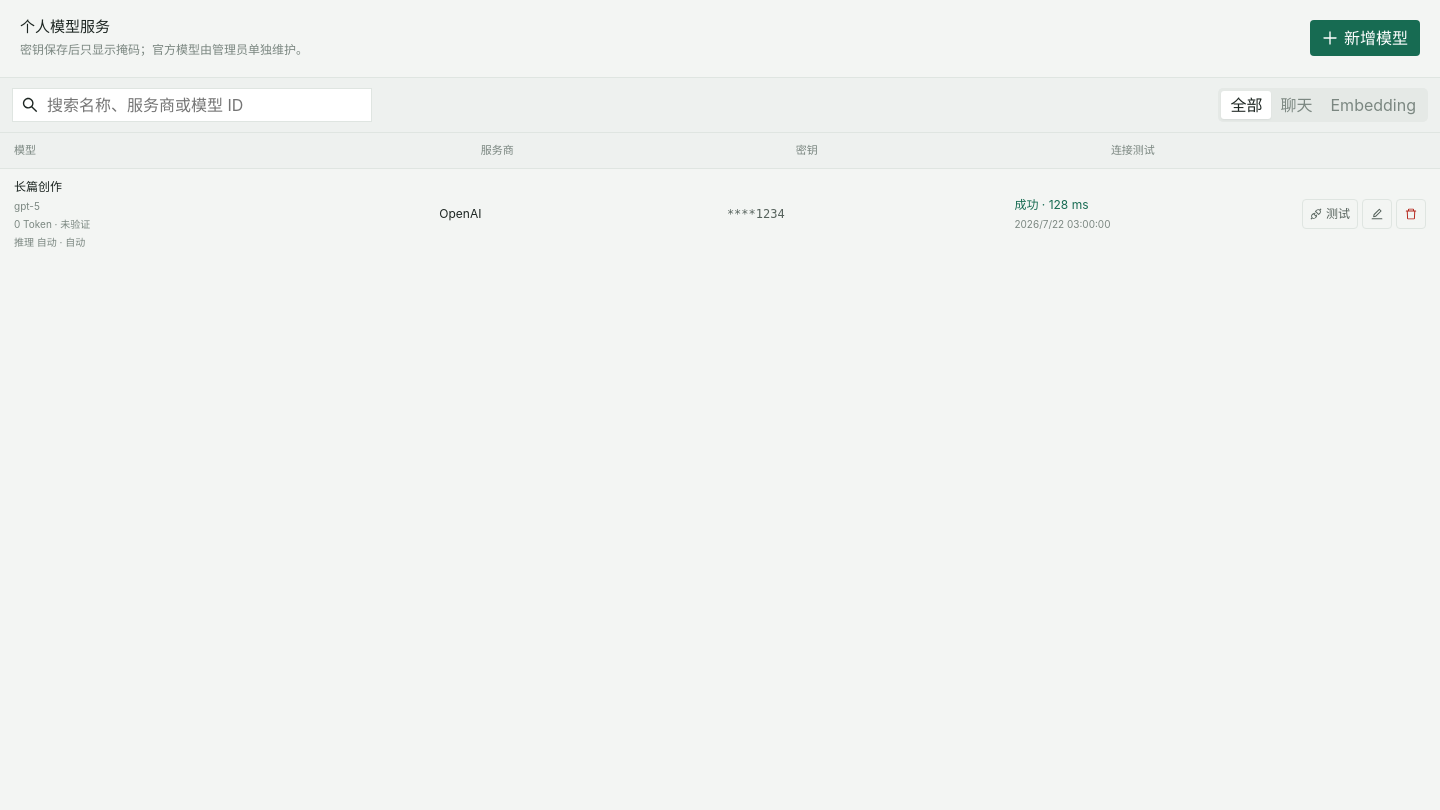
Test case: ProfileModelServicesPanel › shows only reasoning efforts supported by the selected model
Click the button named "编辑模型". click: (1377, 214)
box: [1362,199,1392,229]
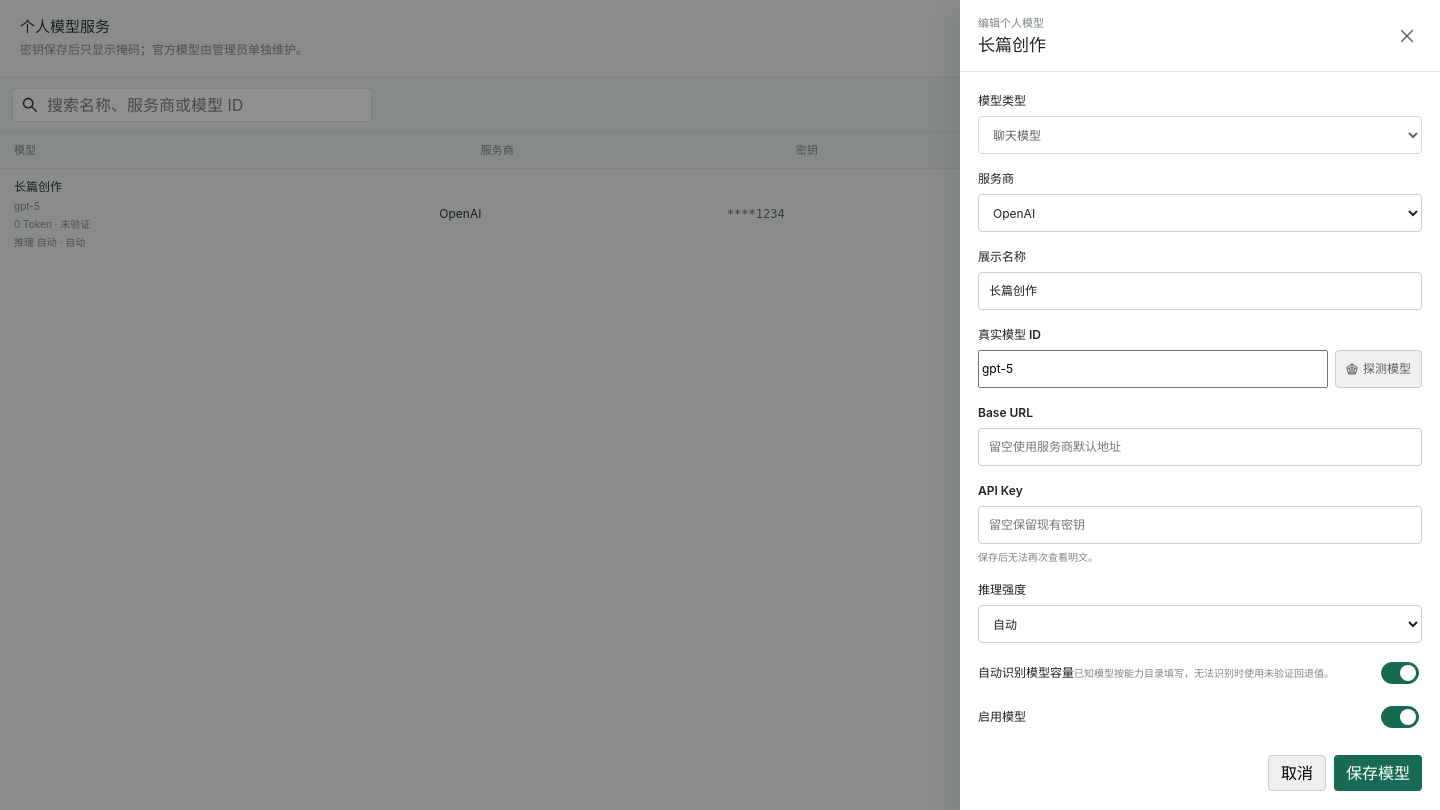
Now the dropdown labelled "推理强度" is shown, box [978,605,1422,643]
